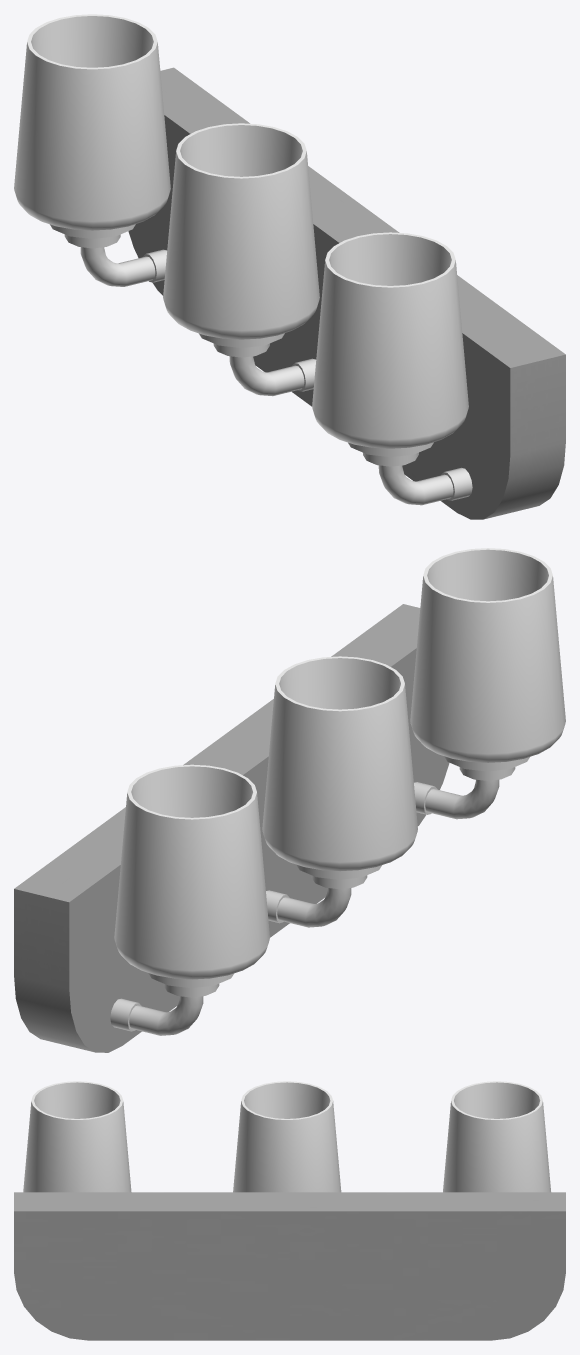
File: 1860_bathroom_Light_Windom_chrome.gltf
3 renders of one model, top to bottom at view 1: azimuth 30°, elevation 25°; view 2: azimuth 150°, elevation 25°; view 3: azimuth 270°, elevation 25°, orthographic. The views are drawn at different scales.
Visible parts, largest first — view 1: Lamp_nickel; view 2: Lamp_nickel; view 3: Lamp_nickel.
Boxes of the visible parts, x1,y1,x2,y2 form: Lamp_nickel: (14,14,565,519); Lamp_nickel: (14,548,565,1052); Lamp_nickel: (14,1081,565,1340).
Size of the model in its own units: 0.3052 by 0.4075 by 1.04.
Materials: 3 (1 with a texture image).
